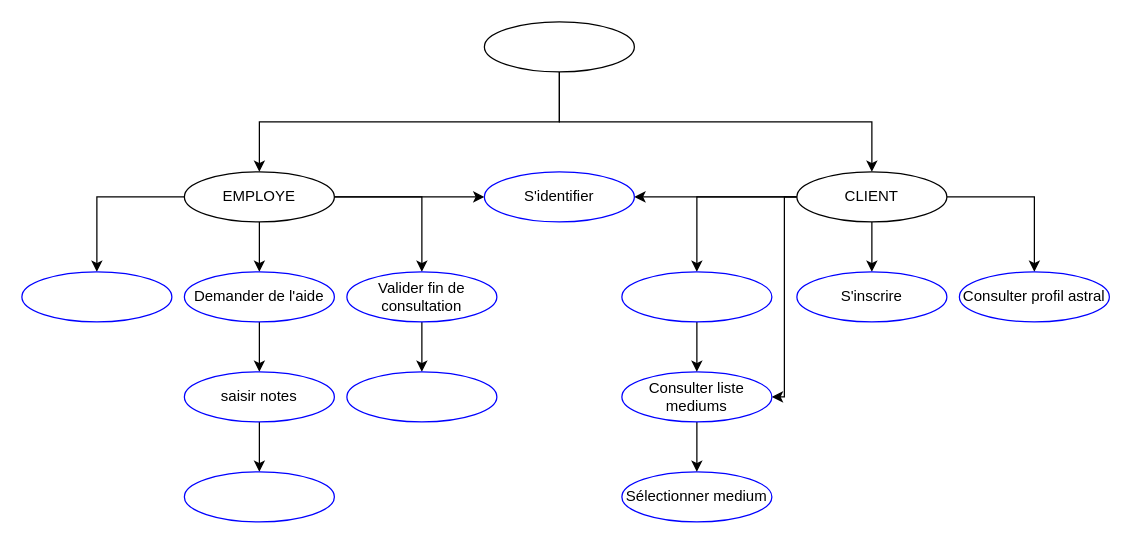
This 1131x544 diagram has some shape labels left out. Here are the shapes that lost their labels. From the top down, the centre of each, then its label:
(558,46): USER
(96,296): Consulter infos entreprise
(696,296): Prendre RDV
(421,396): laisser un commentaire
(258,496): consulter propositions
